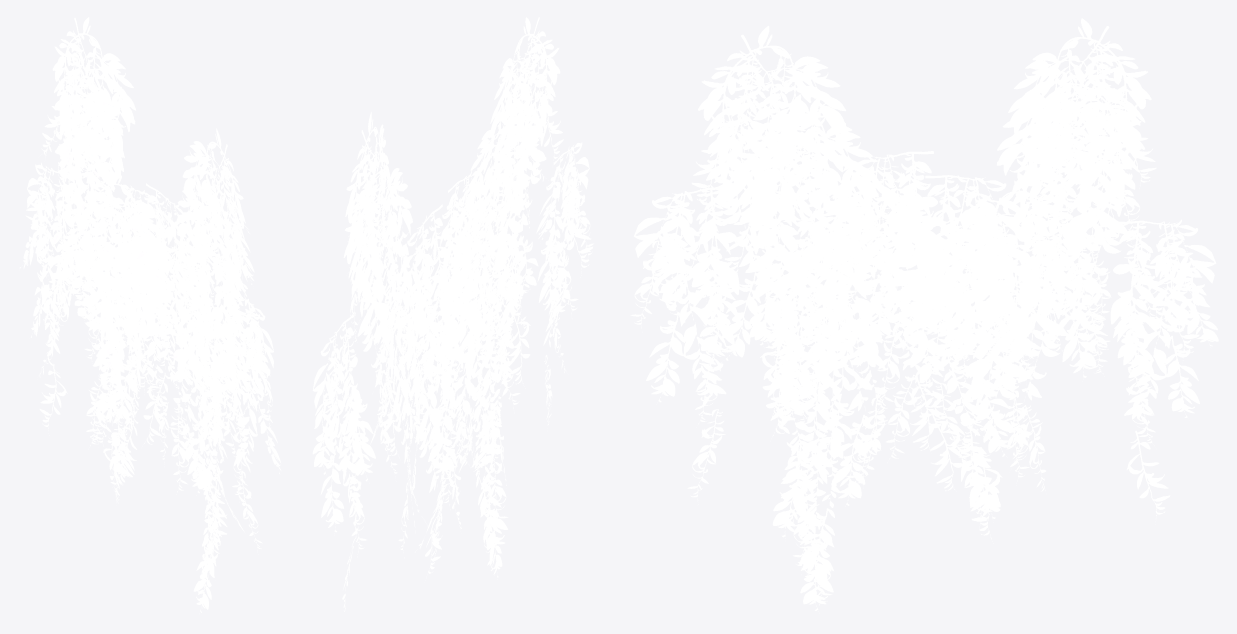
The picture shows the model from 3 angles, left to right: view 1: azimuth 30°, elevation 25°; view 2: azimuth 150°, elevation 25°; view 3: azimuth 270°, elevation 25°; orthographic projection. The views are drawn at different scales.
Visible parts, largest first — view 1: SM_GF_Climbing_A_07_LOD0; view 2: SM_GF_Climbing_A_07_LOD0; view 3: SM_GF_Climbing_A_07_LOD0.
Boxes of the visible parts, <box> form: SM_GF_Climbing_A_07_LOD0: <box>19,17,281,613</box>; SM_GF_Climbing_A_07_LOD0: <box>312,17,593,611</box>; SM_GF_Climbing_A_07_LOD0: <box>630,18,1218,613</box>.
Size of the model in its own units: 0.8381 by 5.69 by 5.07.
Materials: 1 (1 with a texture image).
